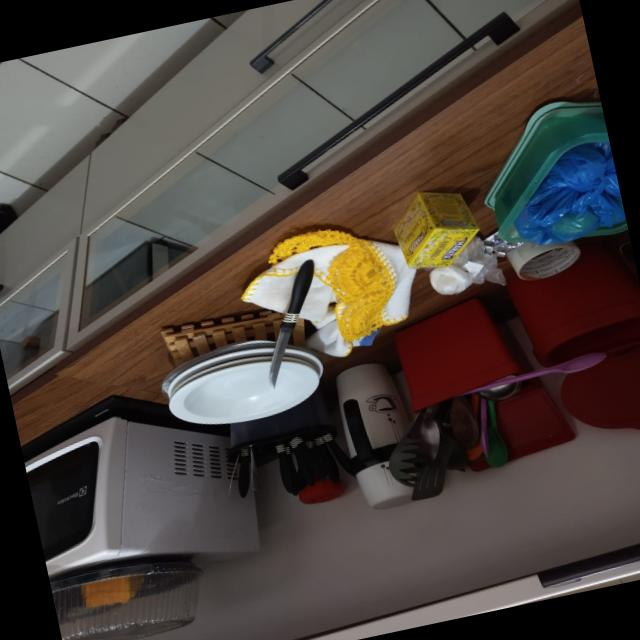knife: (212, 226, 348, 410)
